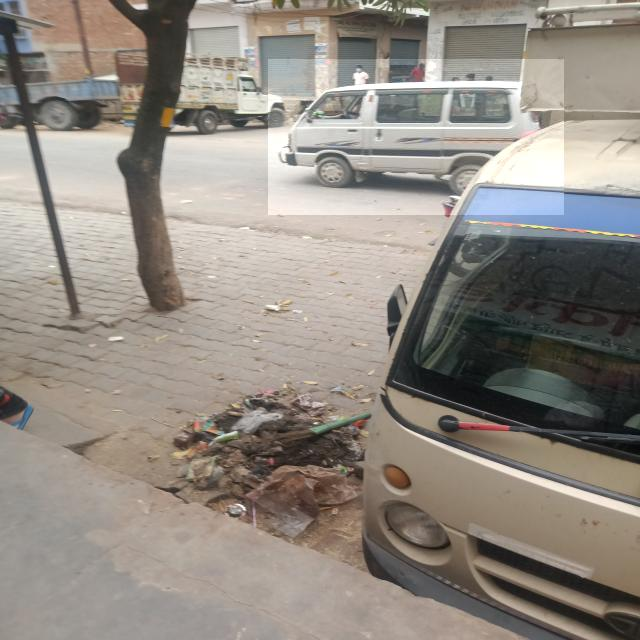Travller: (268, 60, 564, 216)
